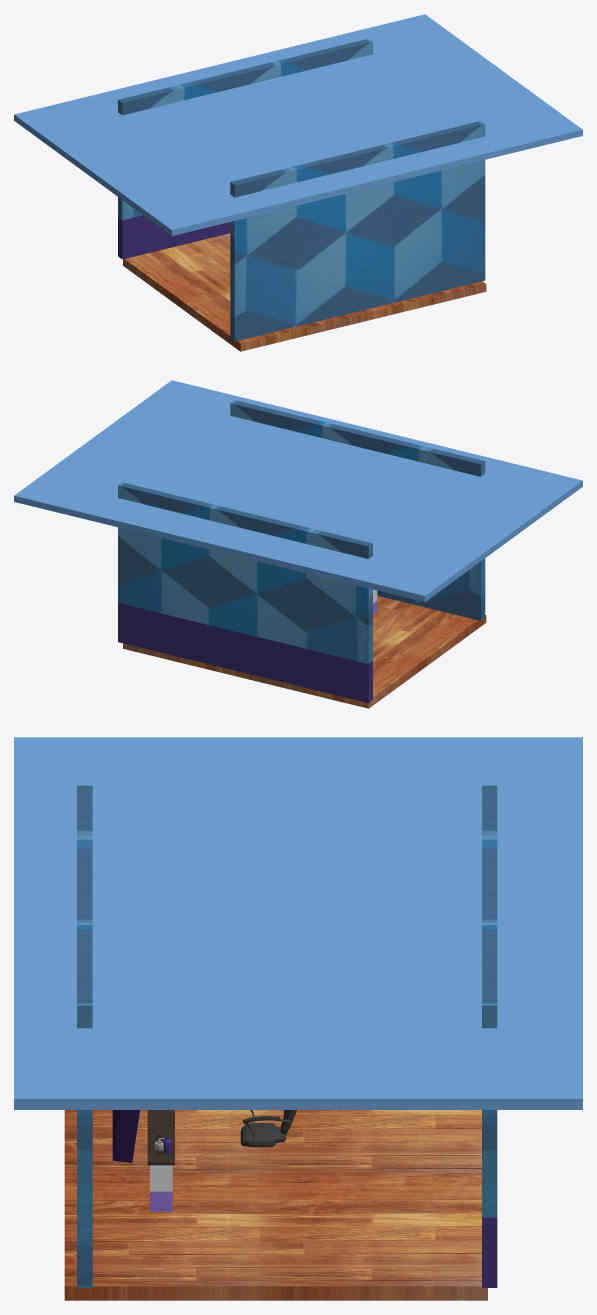
File: Room.fbx
3 views of the same model, one above another, from view 1: azimuth 30°, elevation 25°; view 2: azimuth 150°, elevation 25°; view 3: azimuth 270°, elevation 25° (orthographic). The views are drawn at different scales.
Visible parts, largest first — view 1: 1 top, 1 back wall.001, 1 ground, 1 back wall; view 2: 1 top, 1 back wall, 1 ground, 1 back wall.001; view 3: 1 top, 1 ground, 1 back wall.001, 1 back wall, ChamferBox056, 2 mirror.001, MirrorCasing.
Boxes of the visible parts, x1,y1,x2,y2 form: 1 top: [14, 14, 582, 235]; 1 back wall.001: [230, 121, 485, 341]; 1 ground: [123, 233, 486, 351]; 1 back wall: [118, 38, 372, 259]; 1 top: [14, 380, 582, 601]; 1 back wall: [118, 482, 372, 702]; 1 ground: [123, 596, 486, 708]; 1 back wall.001: [230, 400, 485, 620]; 1 top: [14, 737, 582, 1109]; 1 ground: [64, 1110, 487, 1300]; 1 back wall.001: [77, 785, 92, 1287]; 1 back wall: [482, 785, 497, 1287]; ChamferBox056: [240, 1110, 296, 1147]; 2 mirror.001: [147, 1110, 174, 1165]; MirrorCasing: [112, 1110, 139, 1162].
Size of the model in its own units: 1843 by 705 by 1226.
Materials: 13 (2 with a texture image).
